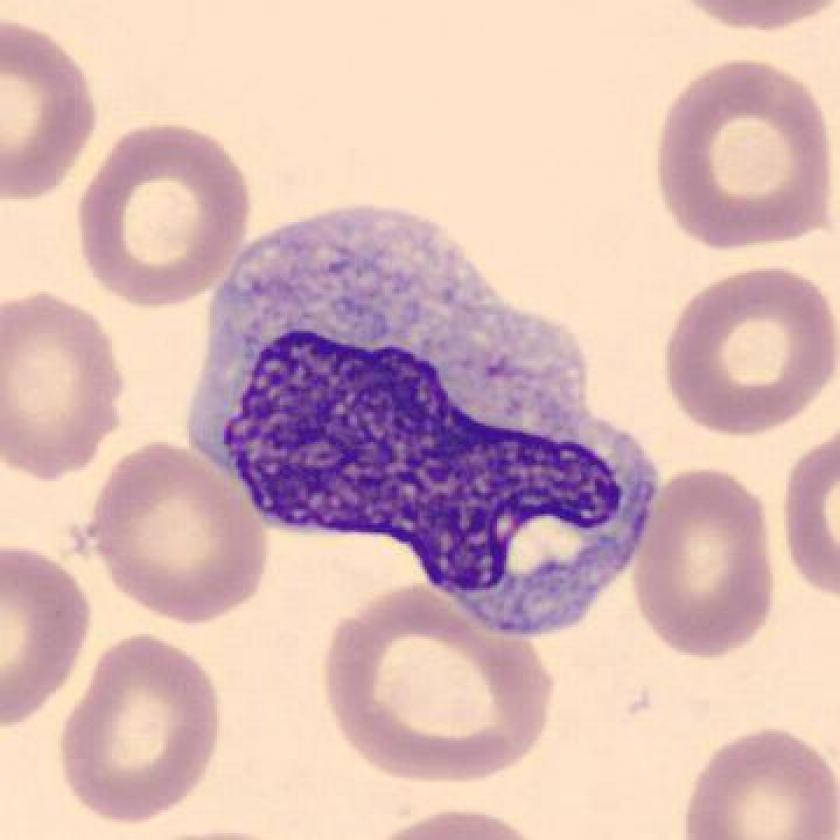monocyte: (181, 189, 673, 661)
